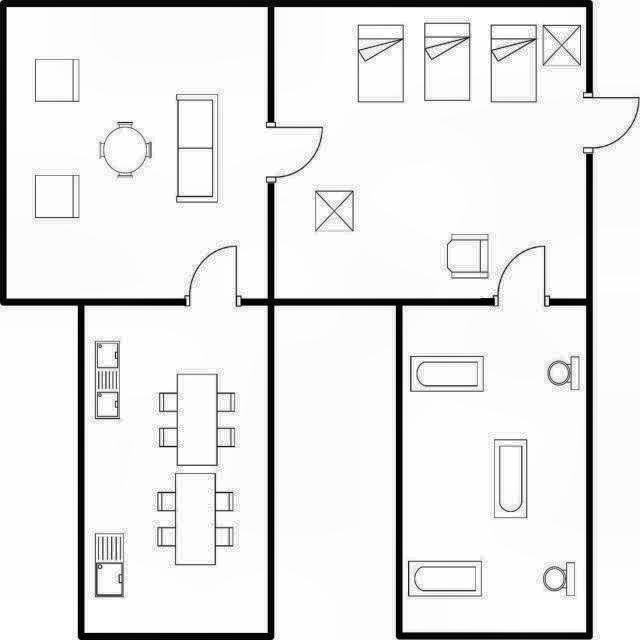room: (274, 7, 586, 299), (6, 7, 268, 298), (84, 306, 268, 633), (402, 306, 586, 632)
